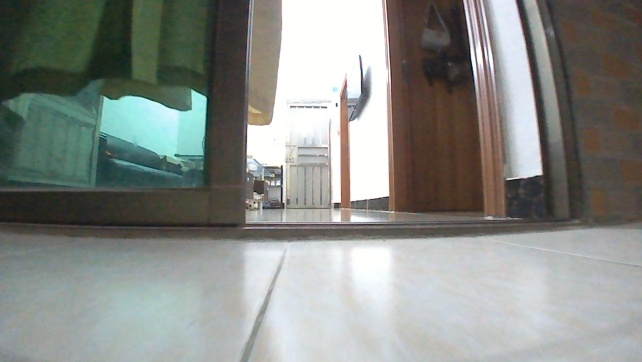door_anno: (281, 97, 331, 210)
